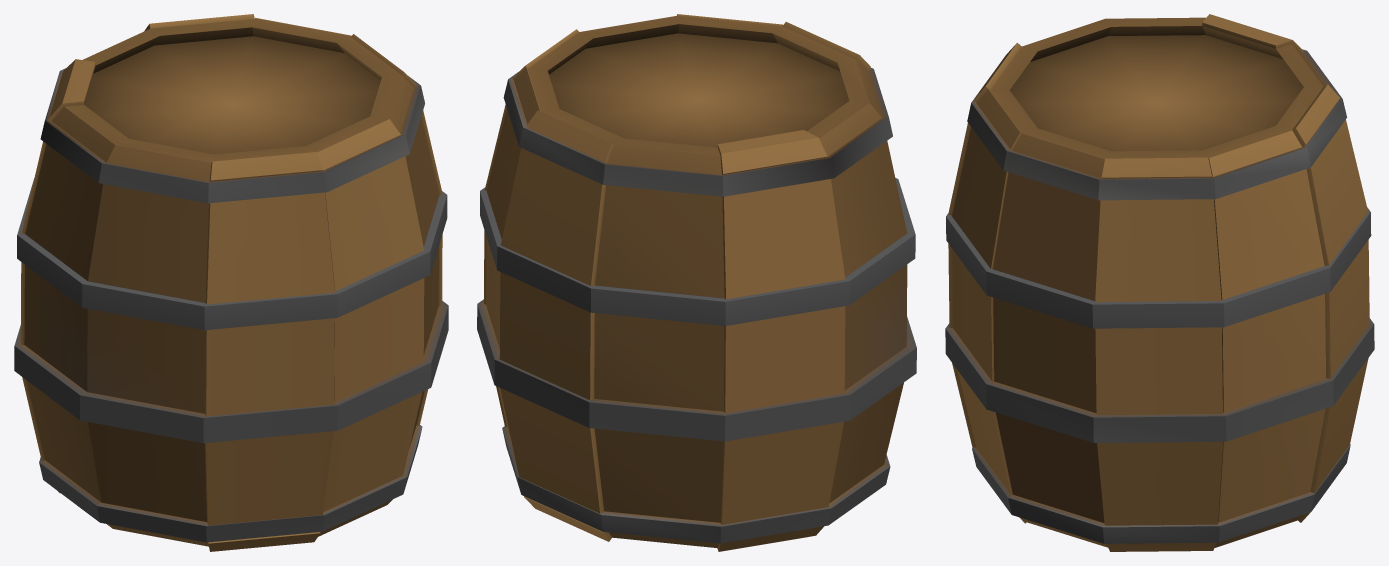
The model's file is Bomba.fbx.
3 views of the same model, side by side, from view 1: azimuth 30°, elevation 25°; view 2: azimuth 150°, elevation 25°; view 3: azimuth 270°, elevation 25° (orthographic).
Visible parts, largest first — view 1: BarrilPintar; view 2: BarrilPintar; view 3: BarrilPintar.
Boxes of the visible parts, box(x1,y1,x2,y2) form: BarrilPintar: box(14, 14, 448, 551); BarrilPintar: box(477, 14, 916, 551); BarrilPintar: box(945, 14, 1374, 551).
Bounding box in the file's own units: 70.01 × 71.8 × 70.05.
